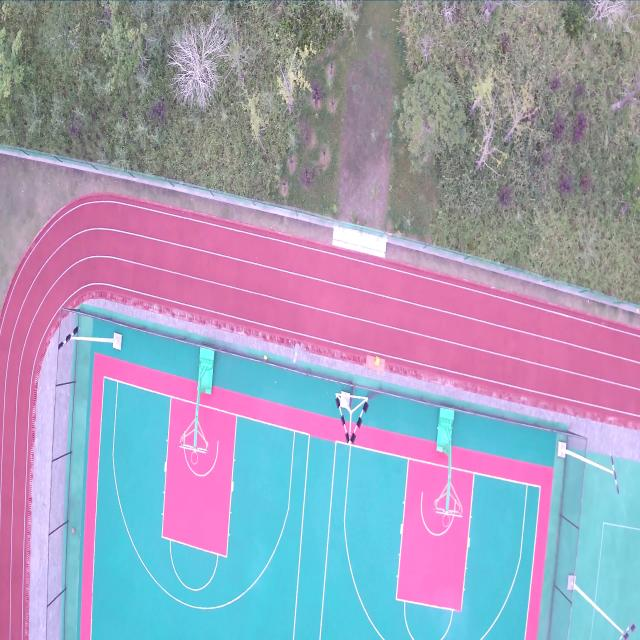UAV: (287, 338, 305, 369)
